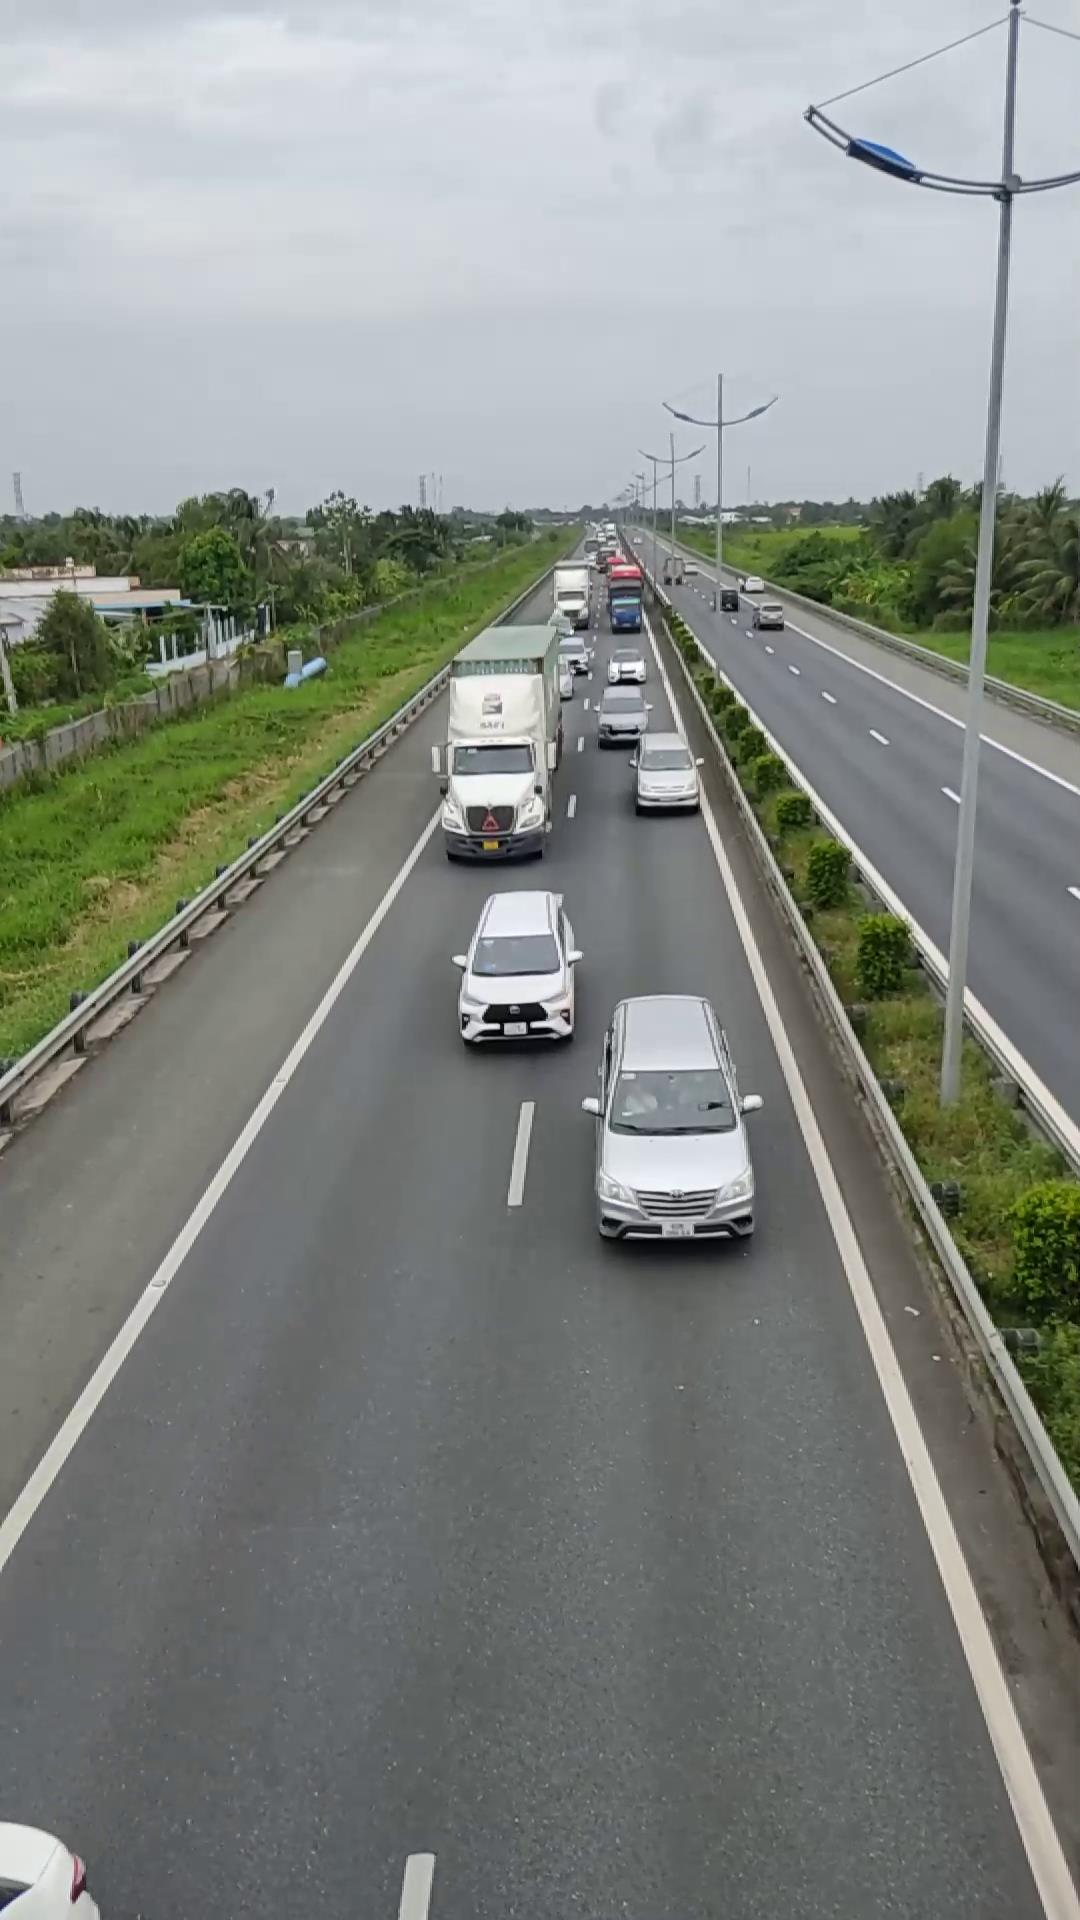car: (585, 992, 760, 1246), (452, 887, 583, 1048), (632, 732, 703, 812)
container: (436, 621, 567, 861)
